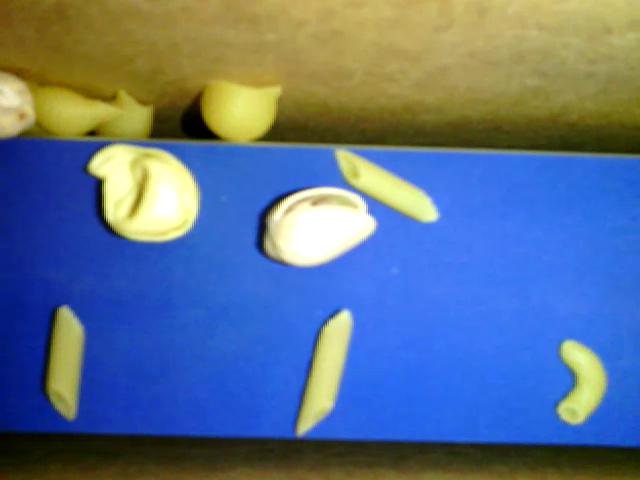elbow: (554, 338, 611, 424)
penne: (329, 149, 438, 225), (294, 307, 355, 436), (45, 300, 84, 419)
shell: (198, 72, 283, 144), (25, 76, 118, 136), (96, 89, 156, 138)
tortellini: (87, 144, 198, 242)
